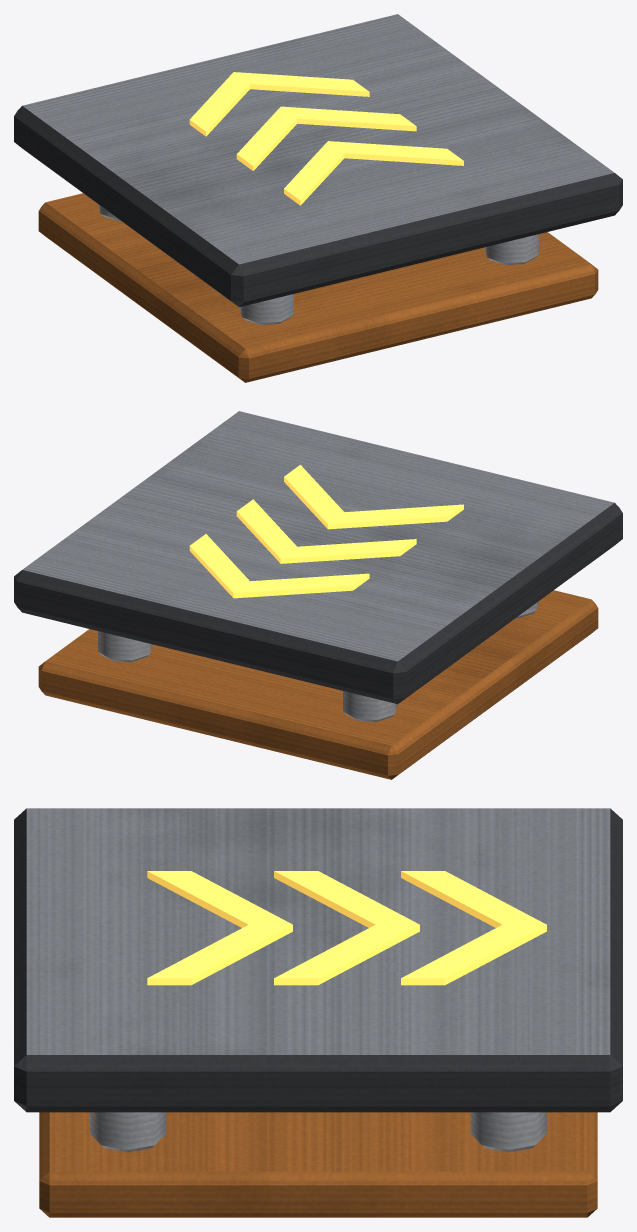
Rendered from R4D_KnockbackTrap_LOD1.glb.
3 renders of one model, top to bottom at view 1: azimuth 30°, elevation 25°; view 2: azimuth 150°, elevation 25°; view 3: azimuth 270°, elevation 25°, orthographic. The views are drawn at different scales.
Visible parts, largest first — view 1: R4D_KnockbackTrap_LOD1; view 2: R4D_KnockbackTrap_LOD1; view 3: R4D_KnockbackTrap_LOD1.
Part boxes in pixels (x1,y1,x2,y2): R4D_KnockbackTrap_LOD1: [14, 14, 622, 382]; R4D_KnockbackTrap_LOD1: [14, 411, 622, 779]; R4D_KnockbackTrap_LOD1: [14, 808, 622, 1217].
Bounding box in the file's own units: 0.48 × 0.156 × 0.48.
5 materials, 4 textured.
